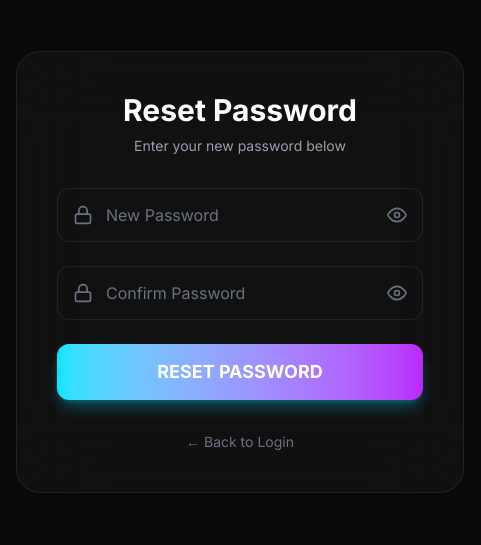
Scenario: ResetPasswordForm › shows error when password is too short
Type "12345" into the password field with placeholder "New Password" at [240, 215], box [57, 188, 423, 242]
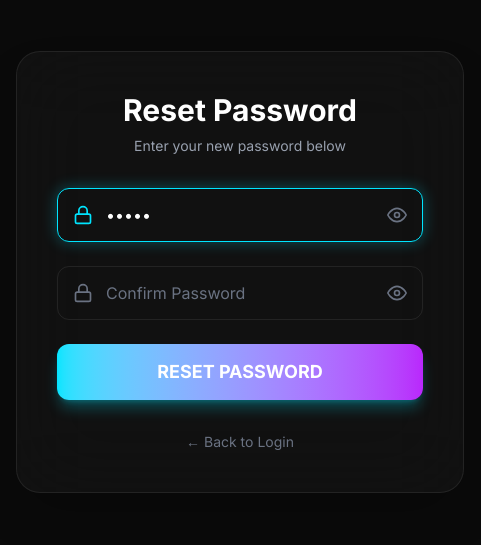
Type "12345" into the password field with placeholder "Confirm Password" at [240, 293], box [57, 266, 423, 320]
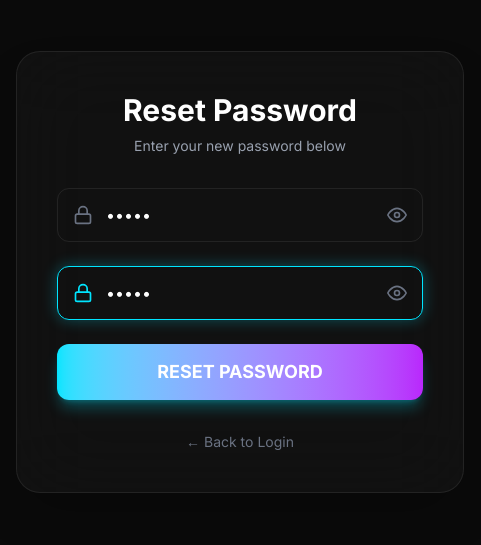
Click the button "RESET PASSWORD" at [240, 372], box [57, 344, 423, 400]
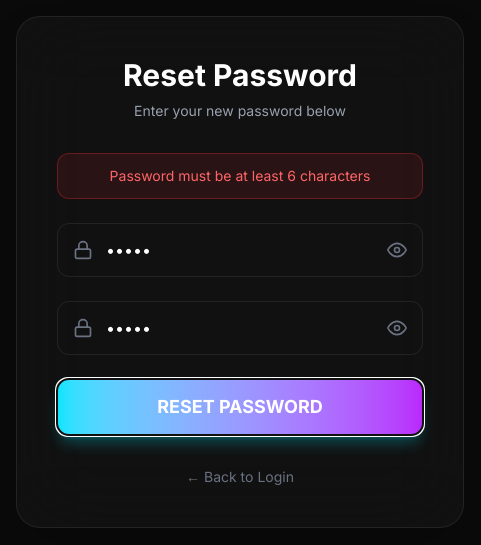
Expected: the text "Password must be at least 6 characters" is shown, [57, 153, 423, 199]
